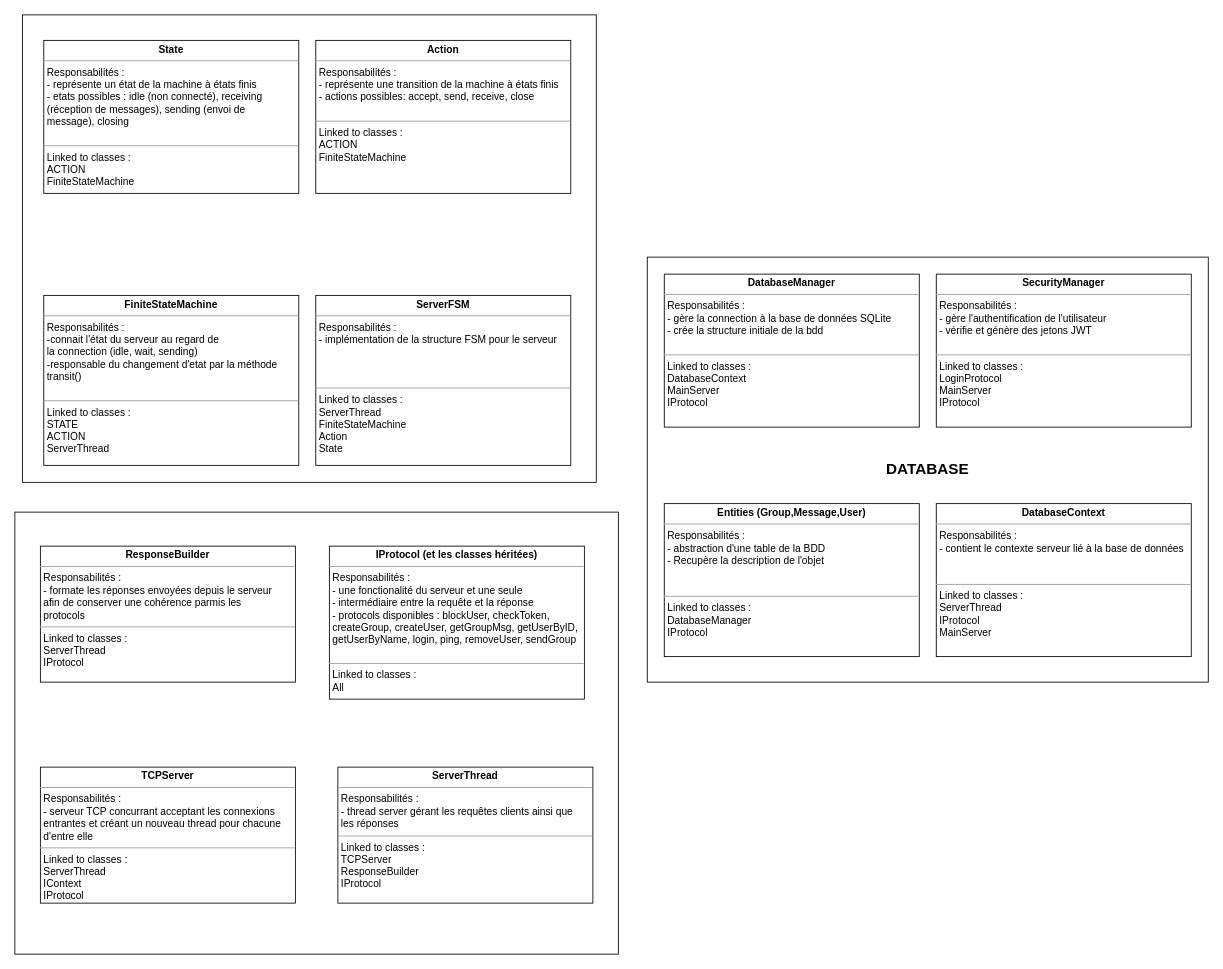
Image size: 1223x969. Some labels were removed from this diagram. Here are the shapes that lost their labels. From the top down, the box of each, then its label:
(22, 14, 596, 482): MACHINE A ETATS FINIS
(14, 511, 618, 954): COMMUNICATION RESEAU
